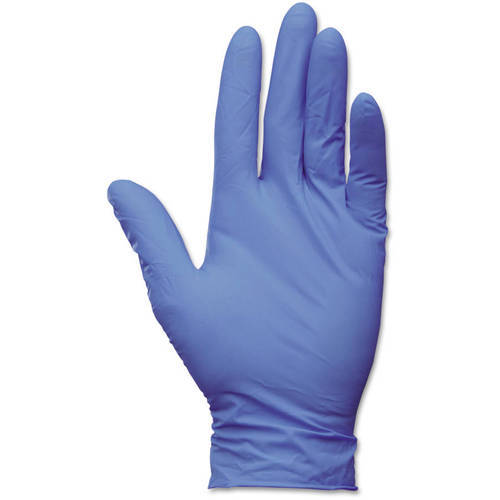Gloves: (104, 1, 391, 494)
